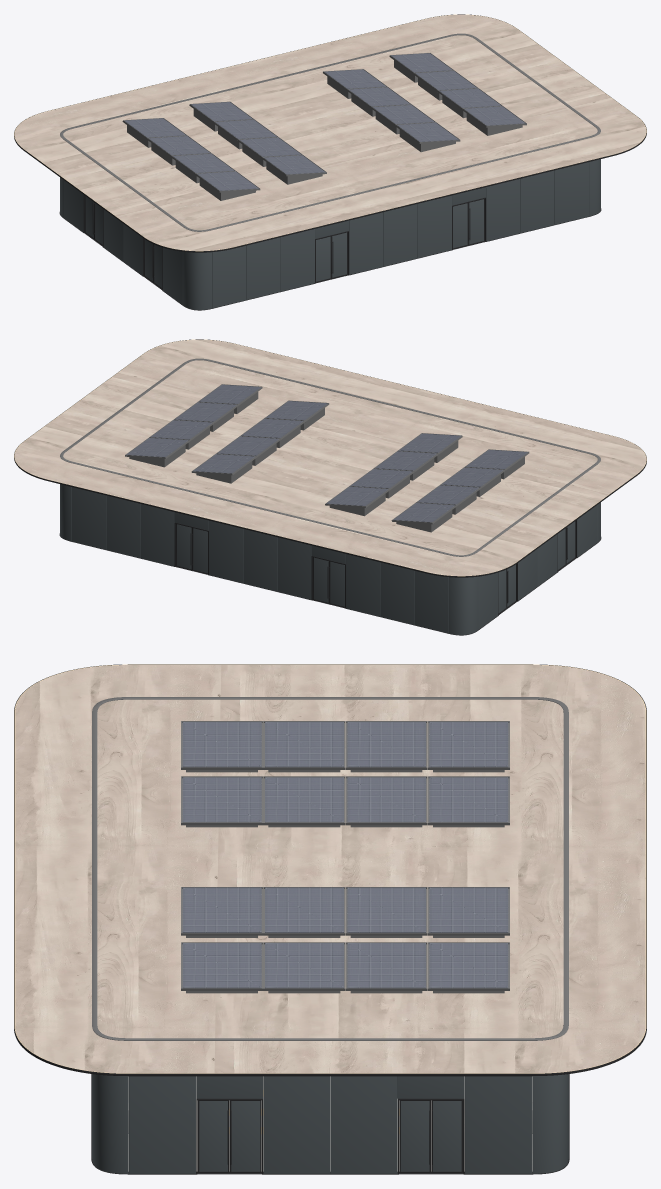
Rendered from pavilion.mobile.glb.
3 renders of one model, top to bottom at view 1: azimuth 30°, elevation 25°; view 2: azimuth 150°, elevation 25°; view 3: azimuth 270°, elevation 25°, orthographic. The views are drawn at different scales.
Visible parts, largest first — view 1: wood, Glass, SolarPanel, MatteGreyDark, Black, BacklightCeilingPerimeter; view 2: wood, Glass, SolarPanel, MatteGreyDark, Black, BacklightCeilingPerimeter; view 3: wood, SolarPanel, Glass, MatteGreyDark, Black, BacklightCeilingPerimeter, Matte.
Boxes of the visible parts, x1,y1,x2,y2 form: wood: [14, 14, 646, 250]; Glass: [60, 159, 600, 309]; SolarPanel: [124, 53, 525, 190]; MatteGreyDark: [60, 33, 600, 231]; Black: [14, 14, 646, 310]; BacklightCeilingPerimeter: [14, 14, 646, 251]; wood: [14, 339, 646, 575]; Glass: [60, 484, 600, 634]; SolarPanel: [126, 384, 527, 522]; MatteGreyDark: [60, 358, 600, 556]; Black: [14, 339, 646, 635]; BacklightCeilingPerimeter: [14, 339, 646, 576]; wood: [15, 665, 645, 1073]; SolarPanel: [182, 722, 508, 988]; Glass: [92, 1074, 568, 1173]; MatteGreyDark: [92, 697, 568, 1040]; Black: [14, 664, 646, 1174]; BacklightCeilingPerimeter: [14, 664, 646, 1073]; Matte: [128, 1076, 532, 1171].
Bounding box in the file's own units: 31.72 × 5.53 × 20.72.
Materials: 11 (2 with a texture image).
